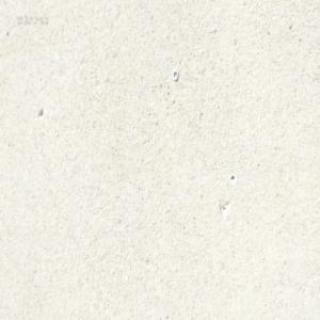Washertrack_idkeyframe: (171, 69, 178, 81)
